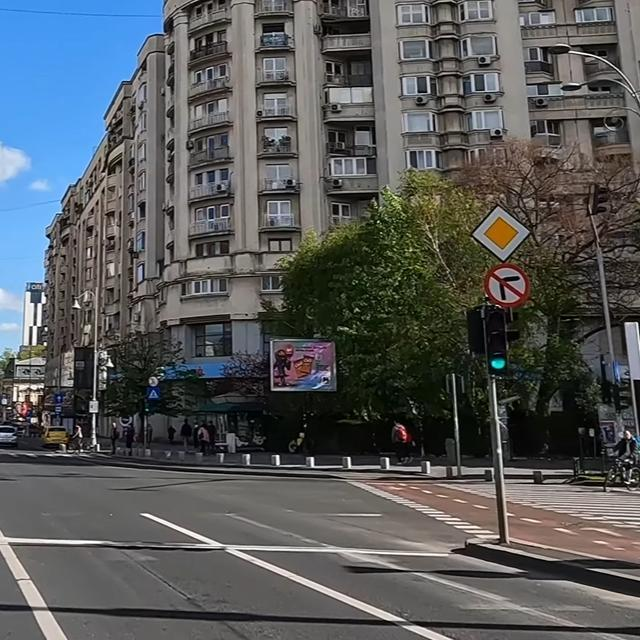info_crosswalk: (147, 389, 160, 400)
